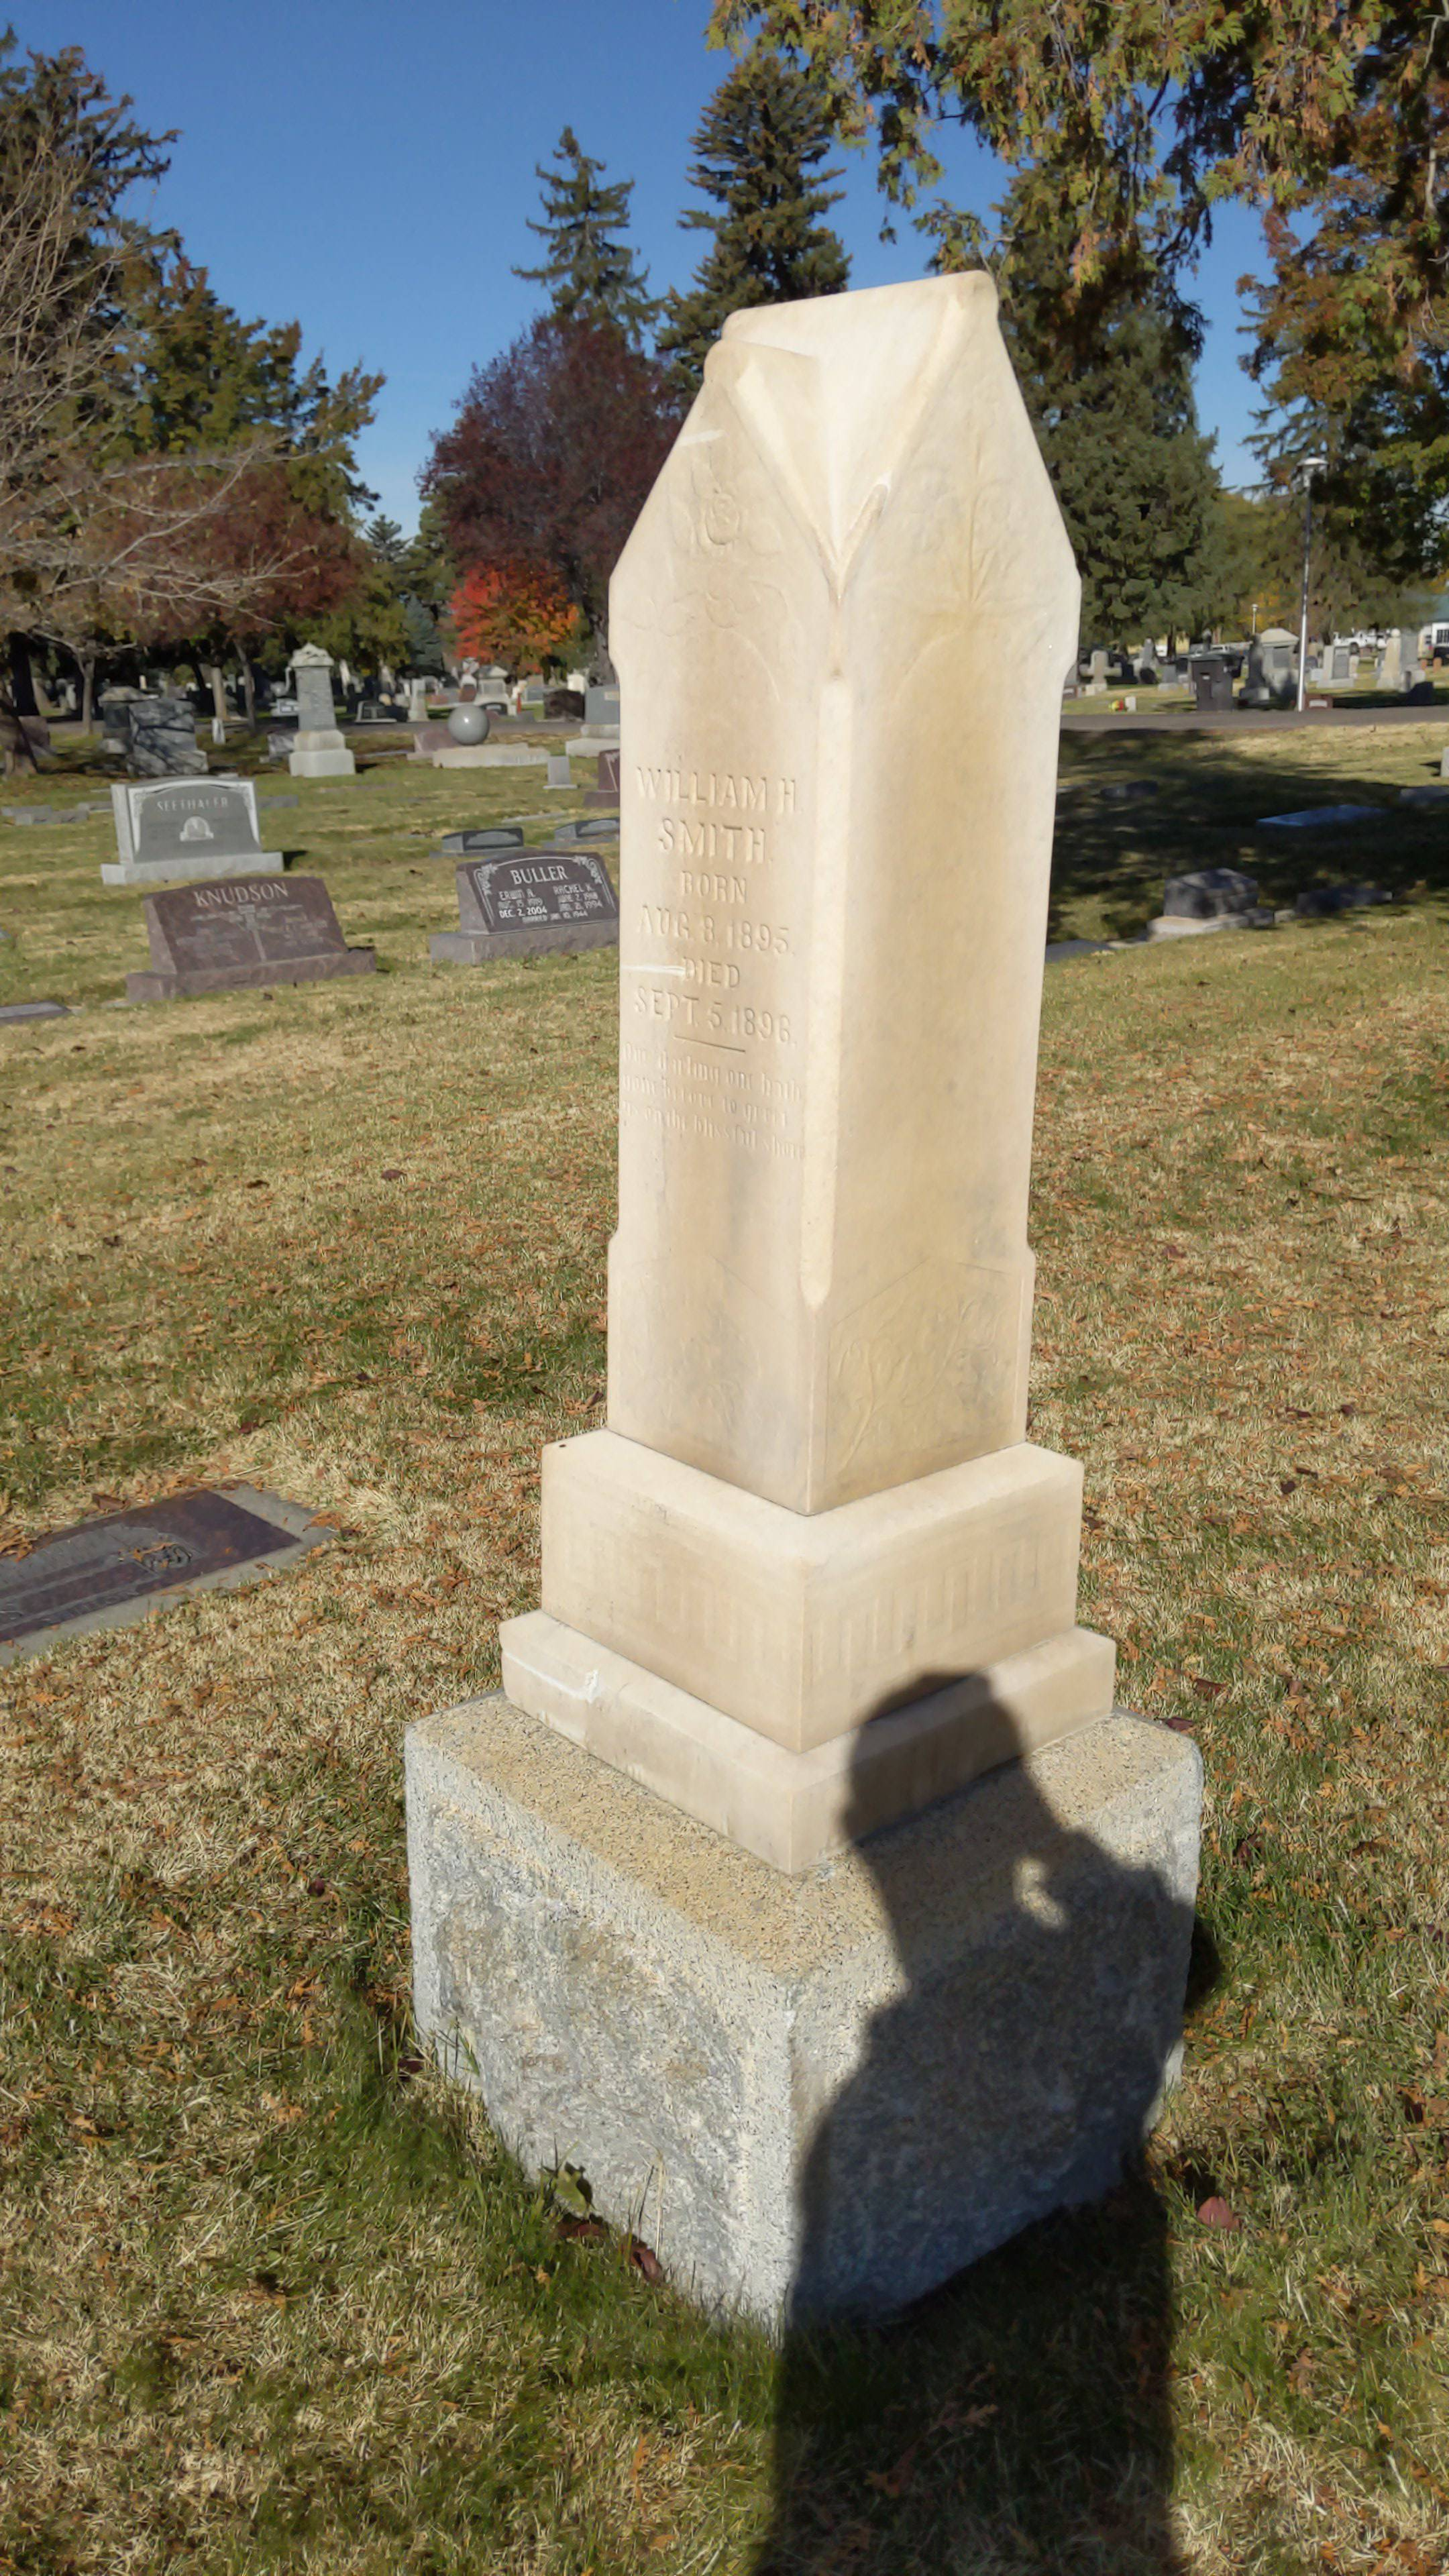obelisk: (510, 287, 1108, 1847)
